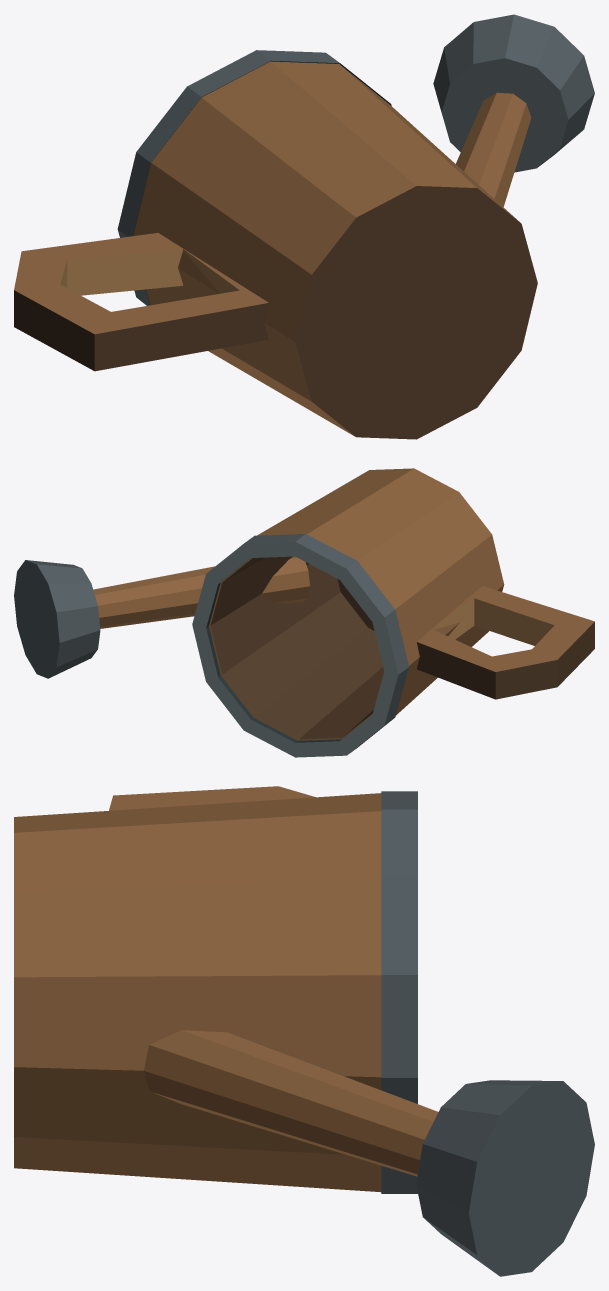
Rendered from watering_can.fbx.
The picture shows the model from 3 angles, top to bottom: view 1: azimuth 30°, elevation 25°; view 2: azimuth 150°, elevation 25°; view 3: azimuth 270°, elevation 25°; orthographic projection. The views are drawn at different scales.
Parts seen in each view (by area): view 1: watering_can; view 2: watering_can; view 3: watering_can.
Part boxes in pixels (box(x1,y1,x2,y2)): watering_can: box(14, 14, 594, 439); watering_can: box(14, 468, 594, 757); watering_can: box(14, 786, 594, 1276).
Bounding box in the file's own units: 2.6 × 1.1 × 1.58.
1 material, 1 textured.
